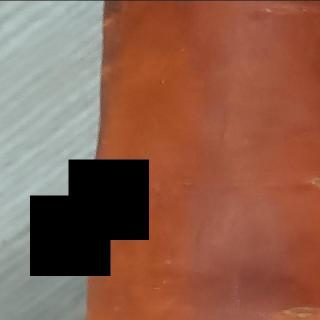carrot: (65, 0, 320, 320)
